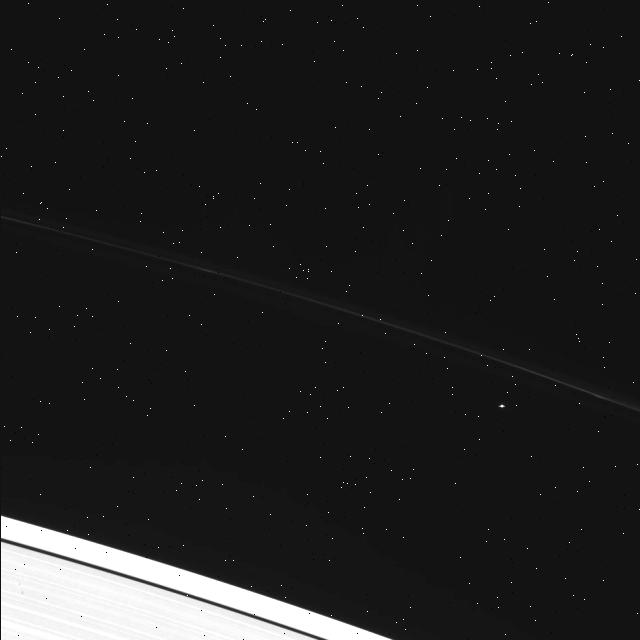Saturn: (0, 509, 499, 640)
